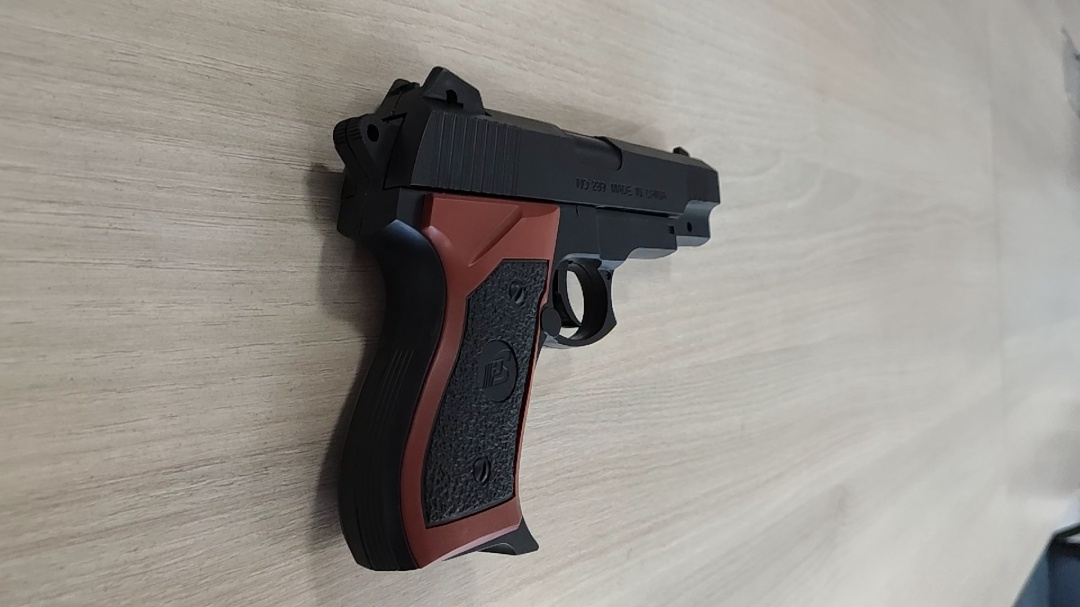gun: (327, 63, 727, 576)
